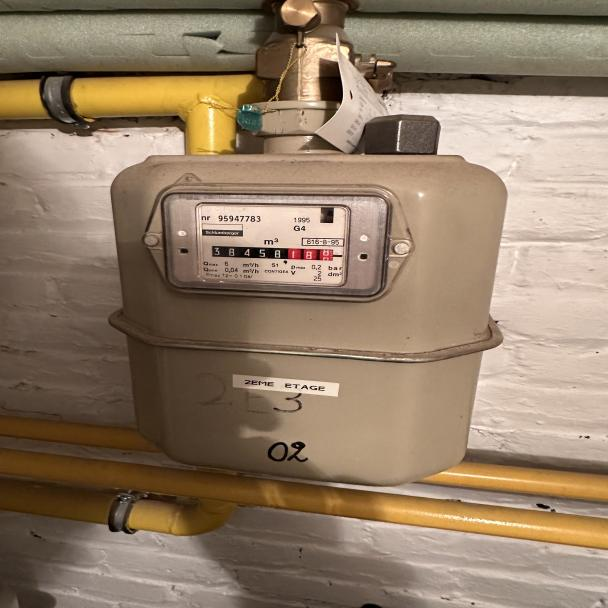1: (287, 246, 303, 261)
3: (211, 246, 224, 259)
4: (239, 244, 256, 260)
5: (255, 246, 268, 260)
8: (318, 247, 336, 262), (270, 246, 286, 262), (300, 246, 317, 261), (225, 245, 240, 260)
cm: (288, 245, 335, 265)
counter: (206, 243, 287, 262)
